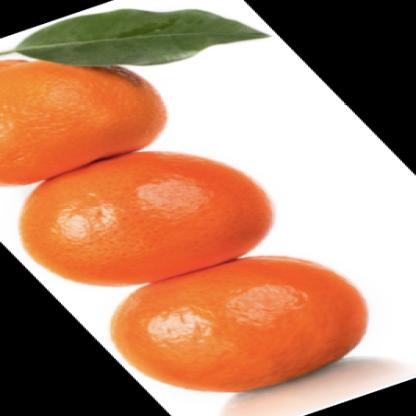fresh: (1, 47, 369, 395)
